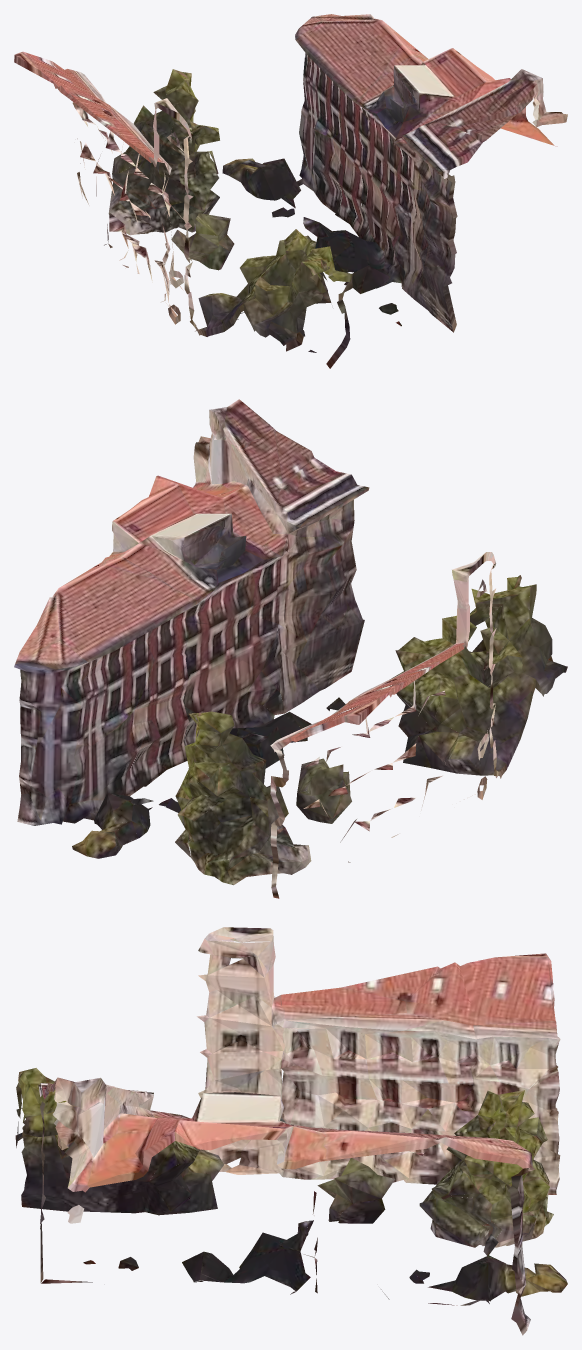
The picture shows the model from 3 angles, top to bottom: view 1: azimuth 30°, elevation 25°; view 2: azimuth 150°, elevation 25°; view 3: azimuth 270°, elevation 25°; orthographic projection. The views are drawn at different scales.
Visible parts, largest first — view 1: Mesh_0; view 2: Mesh_0; view 3: Mesh_0.
Boxes of the visible parts, x1,y1,x2,y2 form: Mesh_0: (14,14,567,368); Mesh_0: (14,399,567,898); Mesh_0: (15,927,567,1335).
Bounding box in the file's own units: 33.29 × 20.8 × 39.47.
Materials: 2 (2 with a texture image).
